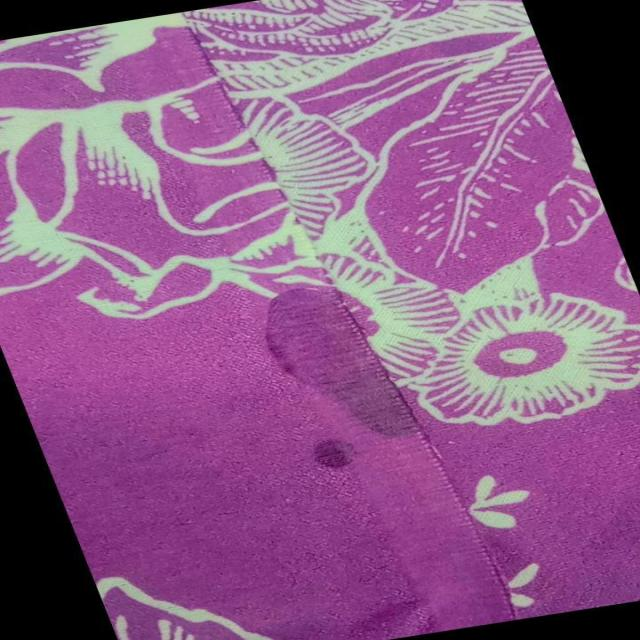stain: (232, 265, 454, 479)
